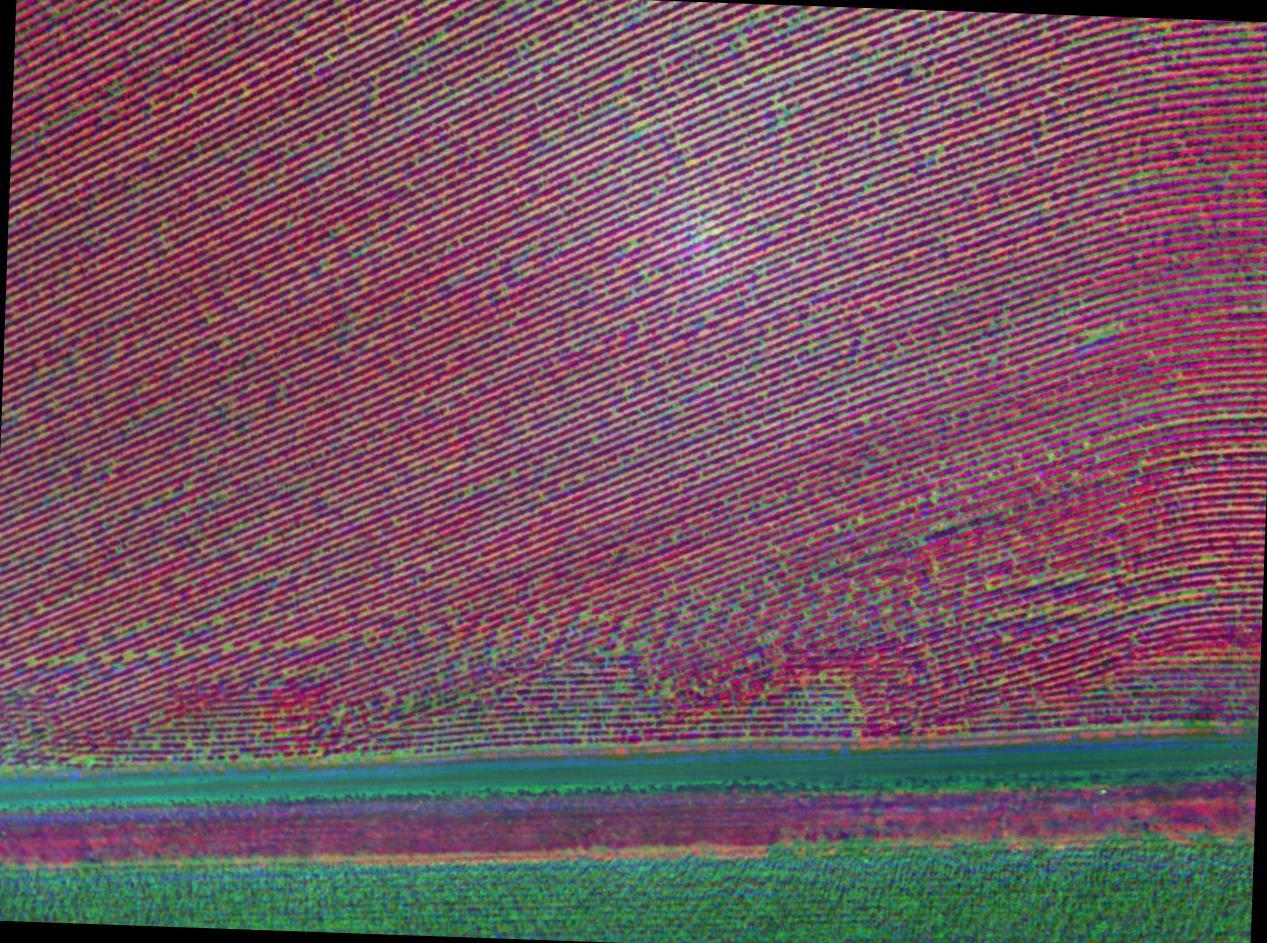dc: (225, 646, 231, 650), (77, 657, 82, 661), (425, 567, 430, 570), (535, 39, 538, 43), (421, 629, 425, 632), (194, 92, 197, 96), (408, 184, 411, 187)
